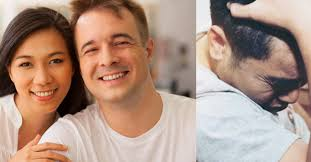asian_female: (1, 13, 78, 118)
